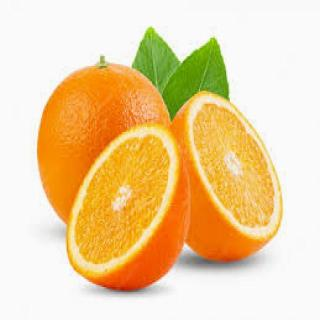orange: (26, 32, 190, 224), (168, 77, 298, 305), (55, 116, 209, 308)
